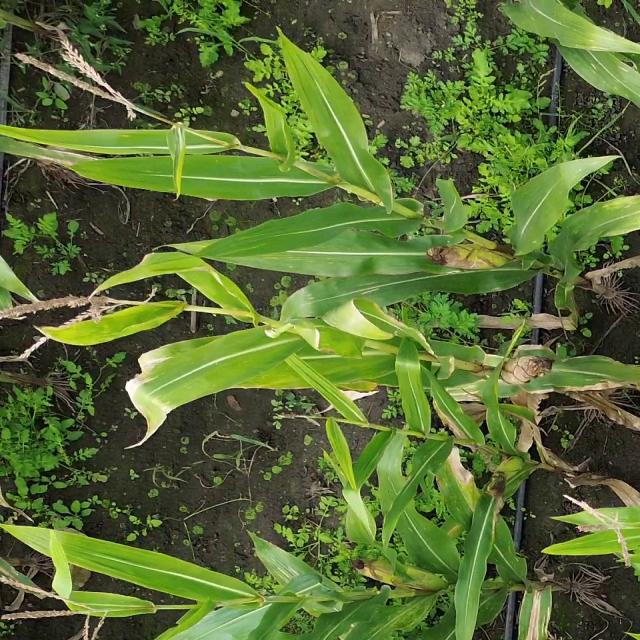northern-leaf-blight: (393, 406, 508, 544), (103, 336, 230, 454), (493, 552, 568, 640)
southern-leaf-blight: (265, 236, 374, 322)
